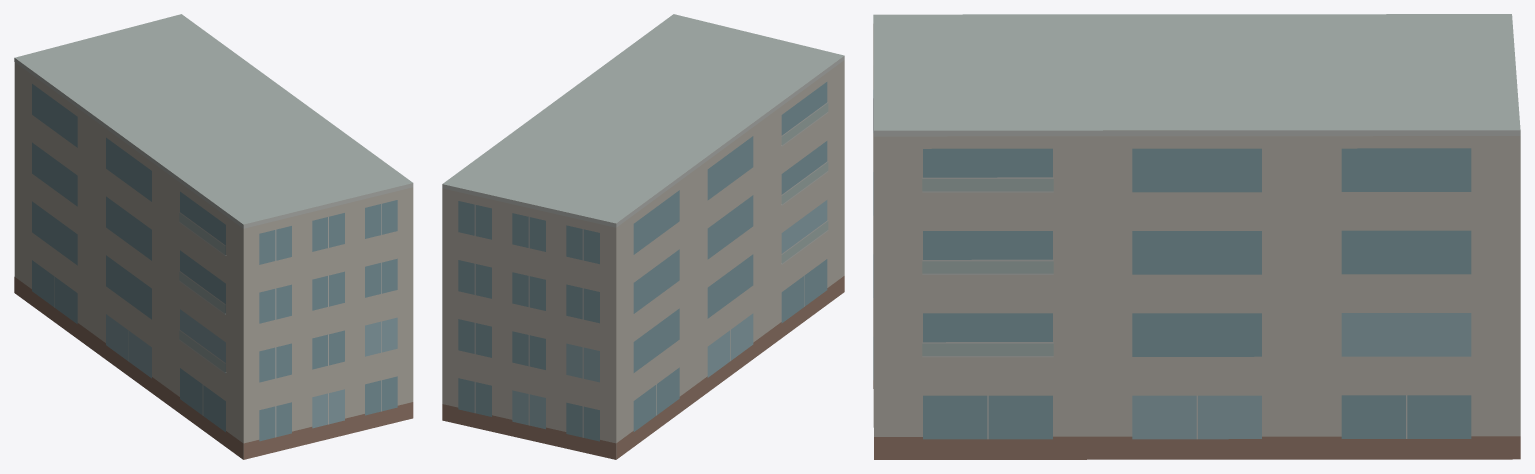
The model's file is survey-upis-32706667.glb.
The picture shows the model from 3 angles, left to right: view 1: azimuth 30°, elevation 25°; view 2: azimuth 150°, elevation 25°; view 3: azimuth 270°, elevation 25°; orthographic projection. The views are drawn at different scales.
Parts seen in each view (by area): view 1: survey-upis-32706667.tmp; view 2: survey-upis-32706667.tmp; view 3: survey-upis-32706667.tmp.
Part boxes in pixels (bbox=[...]): survey-upis-32706667.tmp: bbox=[14, 14, 413, 459]; survey-upis-32706667.tmp: bbox=[442, 14, 844, 459]; survey-upis-32706667.tmp: bbox=[873, 14, 1520, 459].
Size of the model in its own units: 10.37 by 13.6 by 24.24.
